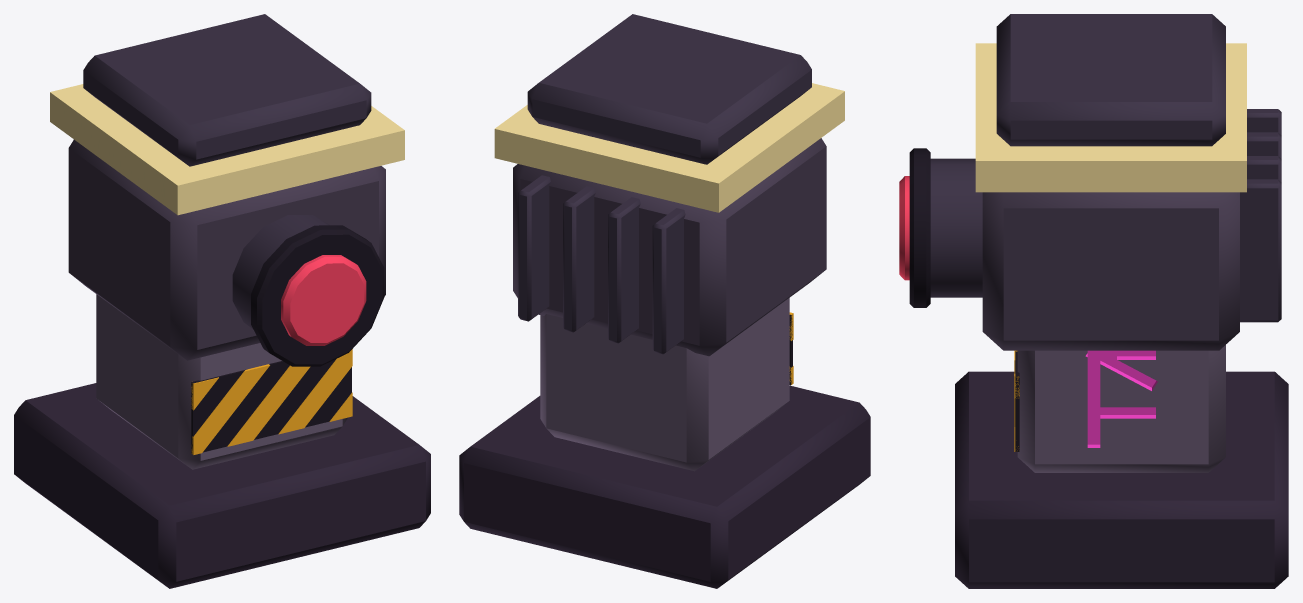
Rendered from laser_emitter__lower.glb.
3 renders of one model, left to right at view 1: azimuth 30°, elevation 25°; view 2: azimuth 150°, elevation 25°; view 3: azimuth 270°, elevation 25°, orthographic. The views are drawn at different scales.
Visible parts, largest first — view 1: Body, Lens; view 2: Body; view 3: Body, Lens.
Part boxes in pixels (bbox=[...]): Body: bbox=[14, 14, 430, 588]; Lens: bbox=[281, 255, 366, 345]; Body: bbox=[459, 14, 870, 588]; Body: bbox=[909, 14, 1288, 588]; Lens: bbox=[899, 176, 909, 280].
Bounding box in the file's own units: 0.48 × 0.74 × 0.56.
